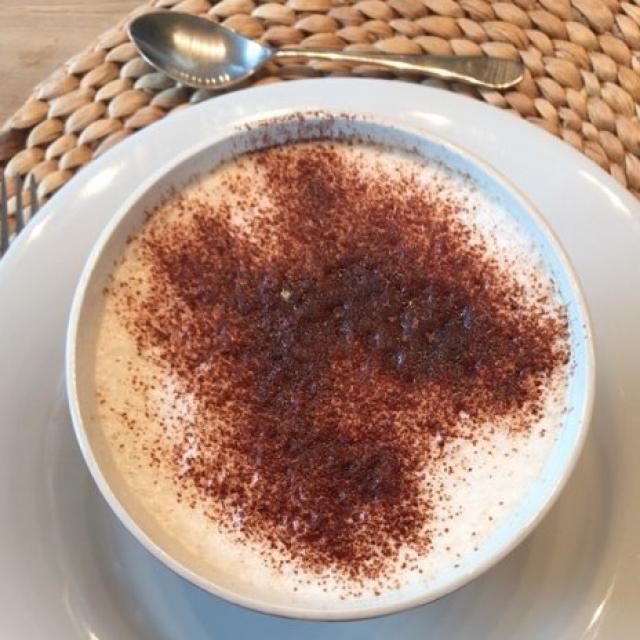cappuccino: (93, 146, 563, 590)
